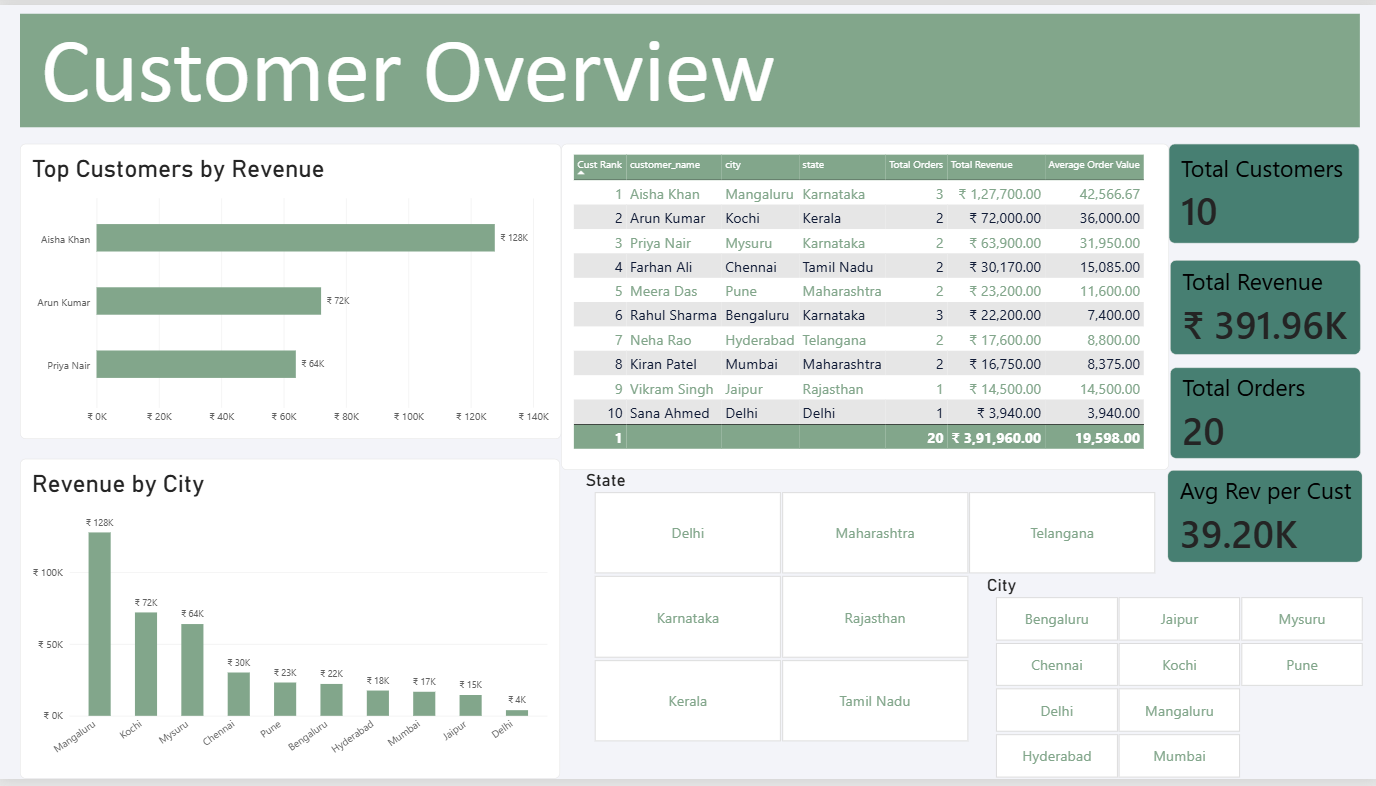

The dashboard page shown, as its layout file describes it:
{"tool":"powerbi","page":{"name":"customer analysis","canvas":[1920,1080],"ordinal":2},"visuals":[{"type":"textbox","box":[27.2,11.9,1869.8,158.2],"z":0},{"type":"cardVisual","fields":{"Data":["public orders.Total Orders"]},"box":[1632.6,505.8,266.9,127.3],"z":1000},{"type":"cardVisual","fields":{"Data":["public order_items.Total Revenue"]},"box":[1632.6,355.8,266.9,132.6],"z":2000},{"type":"cardVisual","fields":{"Data":["public order_items.Average Revenue per Customer"]},"box":[1629.1,648.8,272.1,129.1],"z":3000},{"type":"cardVisual","fields":{"Data":["public customers.Total Customers"]},"box":[1630.8,193.6,266.9,139.5],"z":4000},{"type":"barChart","title":"Top Customers by Revenue","fields":{"Category":["public customers.customer_name"],"Y":["public order_items.Total Revenue"]},"box":[27.9,193.6,755.2,411.6],"z":5000},{"type":"columnChart","title":"Revenue by City","fields":{"Category":["public customers.city"],"Y":["public order_items.Total Revenue"]},"box":[27.9,633.1,753.5,446.5],"z":6000},{"type":"tableEx","fields":{"Values":["public customers.Customer Revenue Rank","public customers.customer_name","public customers.city","public customers.state","public orders.Total Orders","public order_items.Total Revenue","public orders.Average Order Value"]},"box":[783.1,193.6,847.7,455.2],"z":7000},{"type":"slicer","fields":{"Values":["public customers.city"]},"box":[1369.2,795.4,551.2,284.3],"z":8000},{"type":"slicer","fields":{"Values":["public customers.state"]},"box":[809.3,648.8,821.5,380.2],"z":9000}]}

Visuals, with their boxes in screenshot pixels (x1, y1, x2, y2), scaled from the page's 1920x1080 canvas onto the 1376x786 screenshot:
textbox: 19,9,1360,124
cardVisual - public orders.Total Orders: 1170,368,1361,461
cardVisual - public order_items.Total Revenue: 1170,259,1361,355
cardVisual - public order_items.Average Revenue per Customer: 1168,472,1363,566
cardVisual - public customers.Total Customers: 1169,141,1360,242
"Top Customers by Revenue" barChart: 20,141,561,440
"Revenue by City" columnChart: 20,461,560,785
tableEx - public customers.Customer Revenue Rank x public customers.customer_name: 561,141,1169,472
slicer - public customers.city: 981,579,1375,785
slicer - public customers.state: 580,472,1169,749
